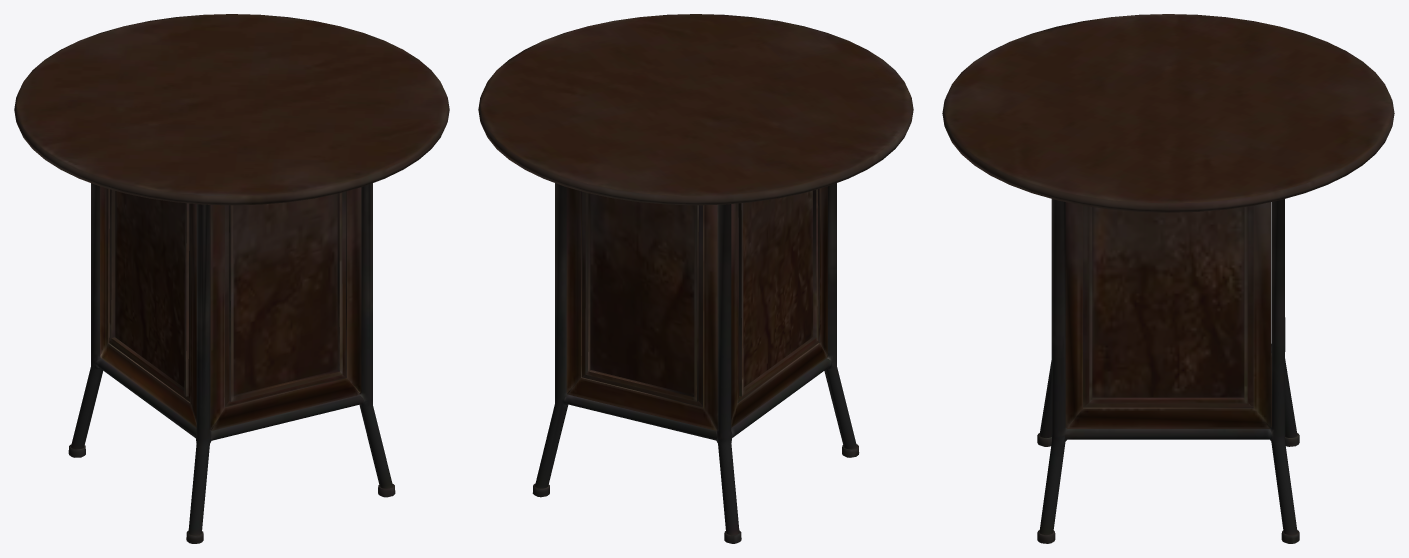
Rendered from round-table.glb.
3 renders of one model, left to right at view 1: azimuth 30°, elevation 25°; view 2: azimuth 150°, elevation 25°; view 3: azimuth 270°, elevation 25°, orthographic. The views are drawn at different scales.
Visible parts, largest first — view 1: round_wooden_table_02; view 2: round_wooden_table_02; view 3: round_wooden_table_02.
Boxes of the visible parts, bbox=[...] form: round_wooden_table_02: bbox=[14, 14, 449, 543]; round_wooden_table_02: bbox=[478, 14, 913, 543]; round_wooden_table_02: bbox=[942, 14, 1394, 543].
Bounding box in the file's own units: 0.7962 × 0.7459 × 0.7962.
Materials: 1 (1 with a texture image).
